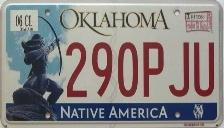0: (117, 41, 138, 98)
2: (64, 40, 90, 101)
9: (91, 41, 114, 98)
J: (168, 41, 191, 98)
P: (141, 41, 165, 98)
U: (193, 41, 216, 98)
